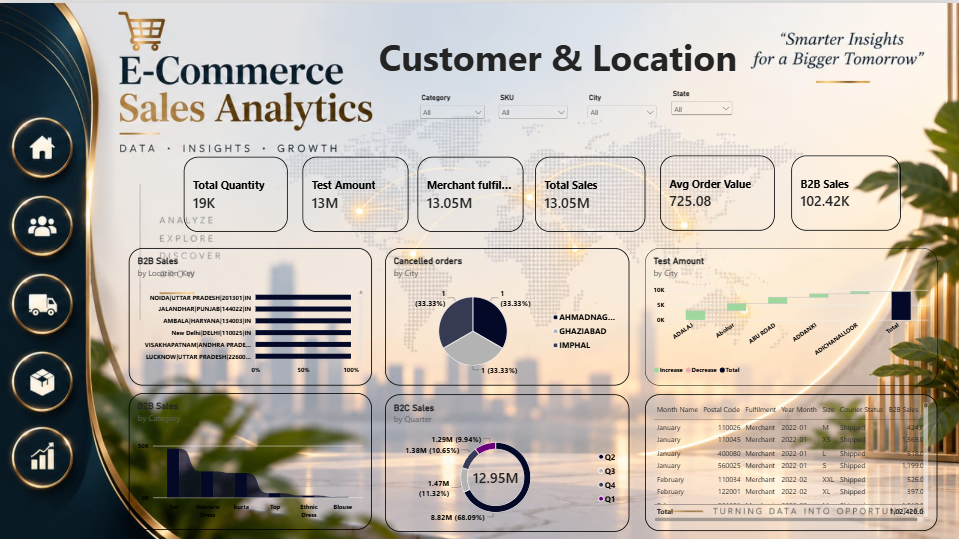

This screenshot's page, from the dashboard's own definition file:
{"tool":"powerbi","page":{"name":"Customer & Location","canvas":[1920,1080],"ordinal":1},"visuals":[{"type":"actionButton","box":[18.1,228,135.7,128.5],"z":0},{"type":"actionButton","box":[18.1,378.2,135.7,128.5],"z":1000},{"type":"actionButton","box":[18.1,539.3,135.7,128.5],"z":2000},{"type":"actionButton","box":[18.1,691.3,135.7,128.5],"z":3000},{"type":"actionButton","box":[19.9,846.9,135.7,128.5],"z":4000},{"type":"textbox","box":[11,18,150,150],"z":5000},{"type":"textbox","box":[758.2,57.9,767.3,115.8],"z":6000},{"type":"slicer","fields":{"Values":["Dim_Product.Category"]},"box":[836.1,179.2,139.3,70.6],"z":7000},{"type":"slicer","fields":{"Values":["Dim_Product.SKU"]},"box":[993.5,179.2,148.4,70.6],"z":8000},{"type":"slicer","fields":{"Values":["Dim_Location.City"]},"box":[1170.9,179.2,148.4,48.9],"z":9000},{"type":"slicer","fields":{"Values":["Dim_Location.State"]},"box":[1337.3,173.7,132.1,54.3],"z":10000},{"type":"hundredPercentStackedBarChart","fields":{"Y":["Measure.B2B Sales"],"Category":["Dim_Location.Location_Key"]},"box":[257,490.4,486.8,275.1],"z":11000},{"type":"pieChart","fields":{"Y":["Measure.Cancelled orders"],"Category":["Dim_Location.City"]},"box":[770.9,490.4,488.6,275.1],"z":12000},{"type":"waterfallChart","fields":{"Y":["Measure.Test Amount"],"Category":["Dim_Location.City"]},"box":[1290.3,490.4,584.5,275.1],"z":13000},{"type":"ribbonChart","fields":{"Y":["Measure.B2B Sales"],"Category":["Dim_Product.Category"]},"box":[257,780,486.8,273.3],"z":14000},{"type":"tableEx","fields":{"Values":["Dim_Date.Month Name","Dim_Location.Postal Code","Dim_Fulfilment.Fulfilment","Dim_Date.Year Month","Dim_Product.Size","Dim_Shipping.Courier Status","Measure.B2B Sales"]},"box":[1290.3,781.8,584.5,273.3],"z":15000},{"type":"cardVisual","fields":{"Data":["Measure.Total Quantity"]},"box":[367.4,307.6,208.1,150.2],"z":16000},{"type":"cardVisual","fields":{"Data":["Measure.Test Amount"]},"box":[606.2,307.6,211.7,150.2],"z":17000},{"type":"cardVisual","fields":{"Data":["Measure.Merchant fulfilment sales"]},"box":[836.1,307.6,211.7,150.2],"z":18000},{"type":"cardVisual","fields":{"Data":["Measure.Total Sales"]},"box":[1069.5,307.6,220.8,150.2],"z":19000},{"type":"cardVisual","fields":{"Data":["Measure.Avg Order Value"]},"box":[1319.2,304,229.8,150.2],"z":20000},{"type":"cardVisual","fields":{"Data":["Measure.B2B Sales"]},"box":[1583.5,304,219,150.2],"z":21000},{"type":"donutChart","fields":{"Y":["Measure.B2C Sales"],"Category":["Dim_Date.Quarter"]},"box":[770.9,781.8,488.6,275.1],"z":22000}]}

Visuals, with their boxes in screenshot pixels (x1, y1, x2, y2), scaled from the page's 1920x1080 canvas onto the 959x539 screenshot:
actionButton: box(9, 114, 77, 178)
actionButton: box(9, 189, 77, 253)
actionButton: box(9, 269, 77, 333)
actionButton: box(9, 345, 77, 409)
actionButton: box(10, 423, 78, 487)
textbox: box(5, 9, 80, 84)
textbox: box(379, 29, 762, 87)
slicer - Dim_Product.Category: box(418, 89, 487, 125)
slicer - Dim_Product.SKU: box(496, 89, 570, 125)
slicer - Dim_Location.City: box(585, 89, 659, 114)
slicer - Dim_Location.State: box(668, 87, 734, 114)
hundredPercentStackedBarChart - Measure.B2B Sales x Dim_Location.Location_Key: box(128, 245, 372, 382)
pieChart - Measure.Cancelled orders x Dim_Location.City: box(385, 245, 629, 382)
waterfallChart - Measure.Test Amount x Dim_Location.City: box(644, 245, 936, 382)
ribbonChart - Measure.B2B Sales x Dim_Product.Category: box(128, 389, 372, 526)
tableEx - Dim_Date.Month Name x Dim_Location.Postal Code: box(644, 390, 936, 527)
cardVisual - Measure.Total Quantity: box(184, 154, 287, 228)
cardVisual - Measure.Test Amount: box(303, 154, 409, 228)
cardVisual - Measure.Merchant fulfilment sales: box(418, 154, 523, 228)
cardVisual - Measure.Total Sales: box(534, 154, 644, 228)
cardVisual - Measure.Avg Order Value: box(659, 152, 774, 227)
cardVisual - Measure.B2B Sales: box(791, 152, 900, 227)
donutChart - Measure.B2C Sales x Dim_Date.Quarter: box(385, 390, 629, 527)
